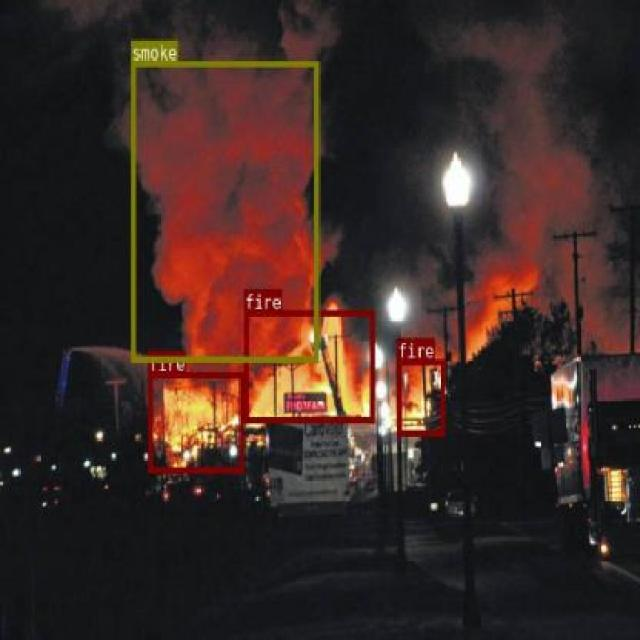Fire: (244, 310, 373, 422), (146, 370, 242, 472), (396, 358, 444, 436)
Smoke: (131, 59, 317, 361)
